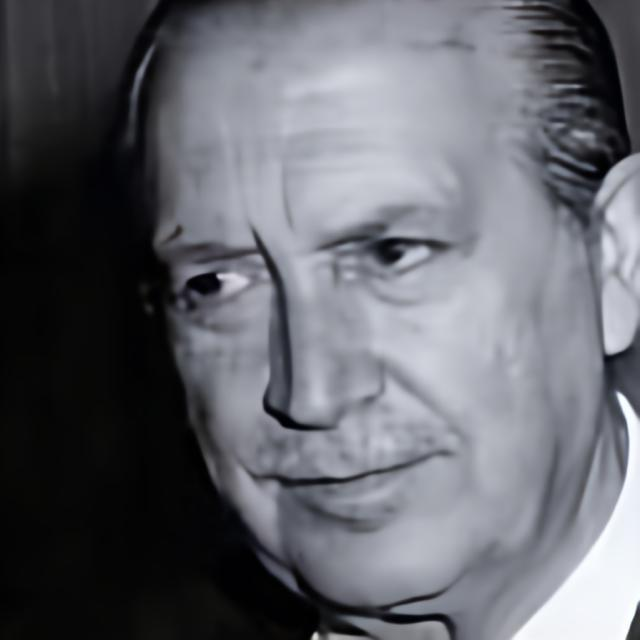content: (146, 0, 597, 610)
